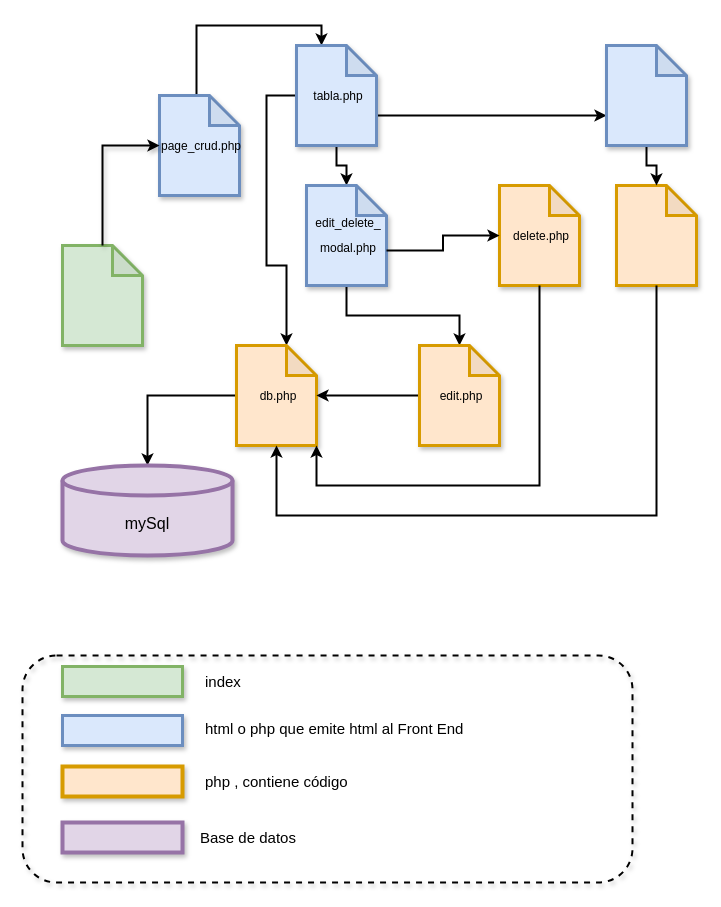
This 721x907 diagram has some shape labels left out. Here are the shapes that lost their labels. From the top down, the centre of each, then its label:
At pixel 647 97: "add_modal.php".
At pixel 657 237: "add.php".
At pixel 103 297: "index.php".
